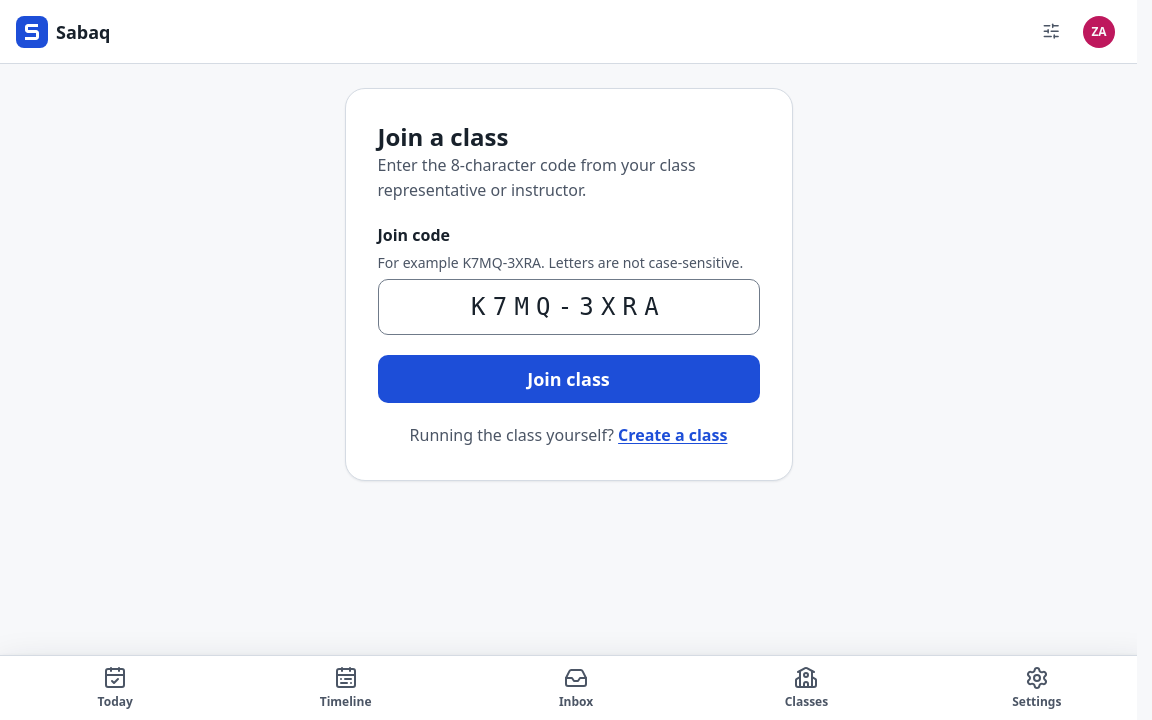
Scenario: joining › fills in the code from a shared link and joins in one tap
The image size is (1152, 720).
Expected: the field labelled "Join code" holds "K7MQ-3XRA", [378,279,760,335]
Click the button "Join class": (568,379) [378,355,760,403]
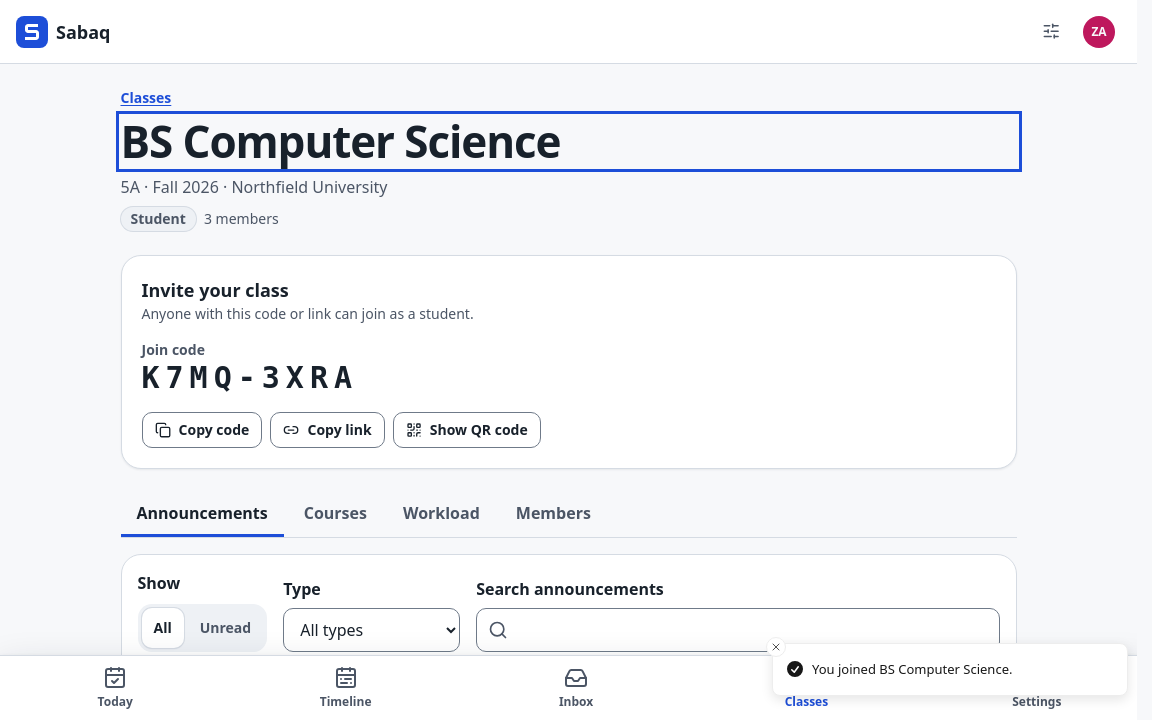
Expected: the text "You joined BS Computer Science." is shown, [812,660,1012,679]
